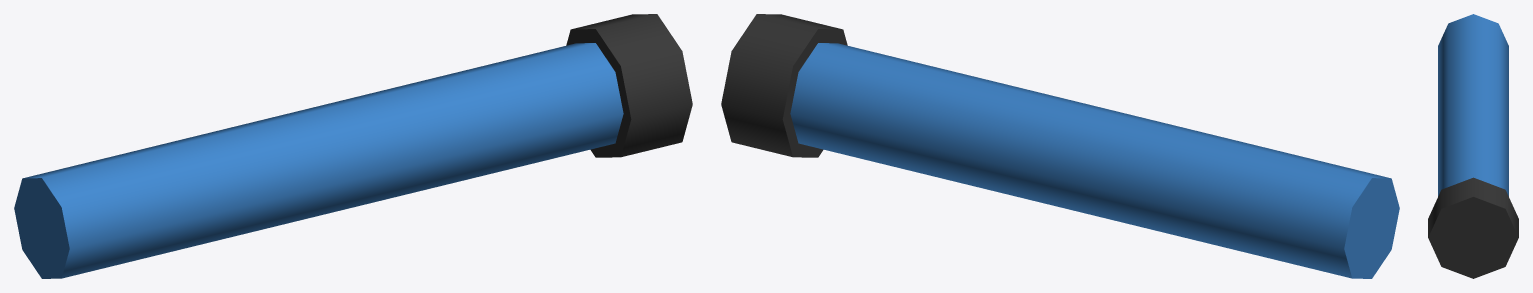
File: Cable3.fbx
3 views of the same model, side by side, from view 1: azimuth 30°, elevation 25°; view 2: azimuth 150°, elevation 25°; view 3: azimuth 270°, elevation 25° (orthographic). The views are drawn at different scales.
Parts seen in each view (by area): view 1: StartEnd; view 2: StartEnd; view 3: StartEnd.
Boxes of the visible parts, left/top/right/bottom form: StartEnd: left=14, top=14, right=692, bottom=278; StartEnd: left=721, top=14, right=1399, bottom=278; StartEnd: left=1428, top=14, right=1518, bottom=278.
Bounding box in the file's own units: 100 × 20 × 20.
